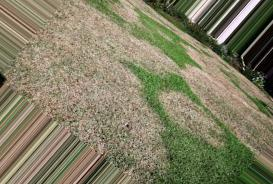patch: (37, 48, 154, 156), (190, 66, 250, 120)
